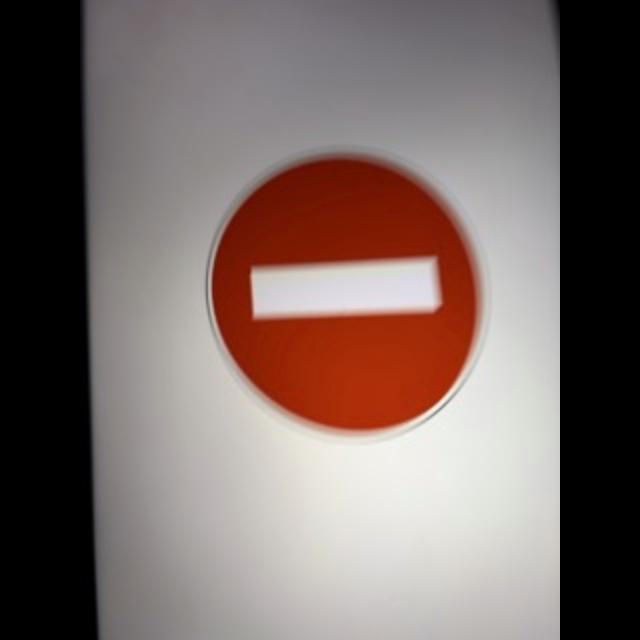NO ENTRY: (200, 146, 498, 440)
